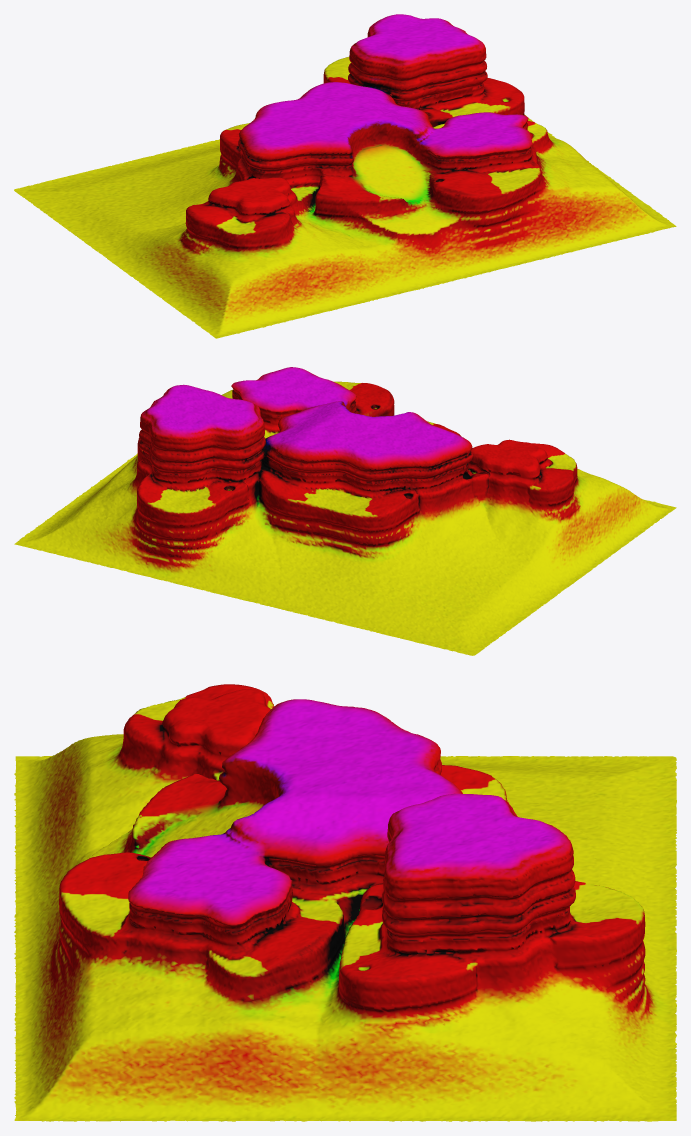
Rendered from island-terrain.glb.
3 renders of one model, top to bottom at view 1: azimuth 30°, elevation 25°; view 2: azimuth 150°, elevation 25°; view 3: azimuth 270°, elevation 25°, orthographic. The views are drawn at different scales.
Parts seen in each view (by area): view 1: island-terrain; view 2: island-terrain; view 3: island-terrain.
Boxes of the visible parts, x1,y1,x2,y2 form: island-terrain: [14, 14, 676, 338]; island-terrain: [14, 367, 676, 655]; island-terrain: [14, 684, 676, 1121].
Bounding box in the file's own units: 59.9 × 14.67 × 45.9.
